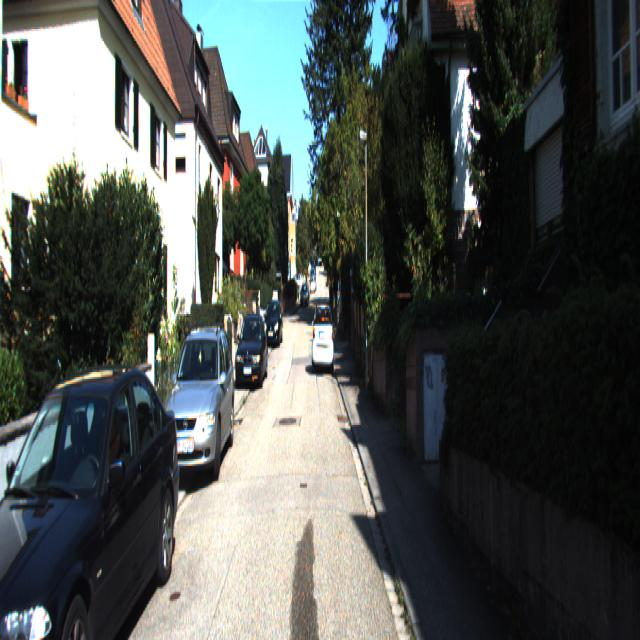Car: (0, 348, 188, 638), (158, 319, 236, 490), (234, 312, 269, 386), (312, 300, 334, 374), (264, 296, 284, 344)
